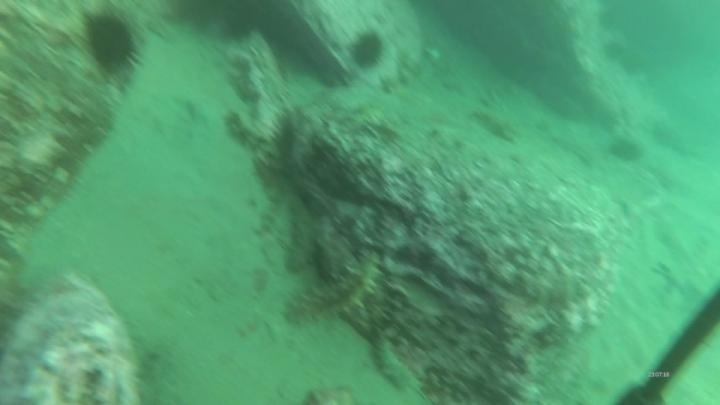echinus: (79, 9, 144, 76), (347, 29, 387, 72), (606, 135, 645, 166)
holothurian: (282, 247, 389, 327), (470, 105, 520, 145)
